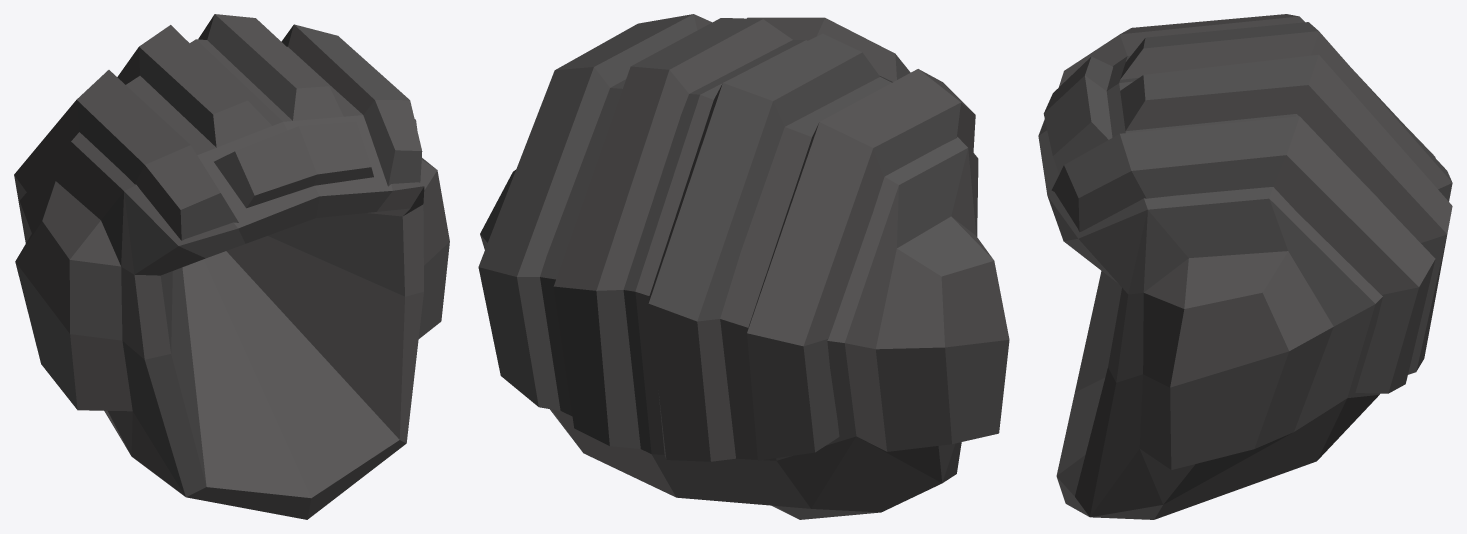
The model's file is SM_Chr_Attach_Helmet_11_Male.fbx.
The picture shows the model from 3 angles, left to right: view 1: azimuth 30°, elevation 25°; view 2: azimuth 150°, elevation 25°; view 3: azimuth 270°, elevation 25°; orthographic projection. The views are drawn at different scales.
Parts seen in each view (by area): view 1: SM_Chr_Attach_Helmet_11_Male; view 2: SM_Chr_Attach_Helmet_11_Male; view 3: SM_Chr_Attach_Helmet_11_Male.
Boxes of the visible parts, x1,y1,x2,y2 form: SM_Chr_Attach_Helmet_11_Male: (14, 14, 449, 519); SM_Chr_Attach_Helmet_11_Male: (478, 14, 1009, 519); SM_Chr_Attach_Helmet_11_Male: (1038, 14, 1452, 519).
Bounding box in the file's own units: 33.1 × 35.33 × 28.13.
